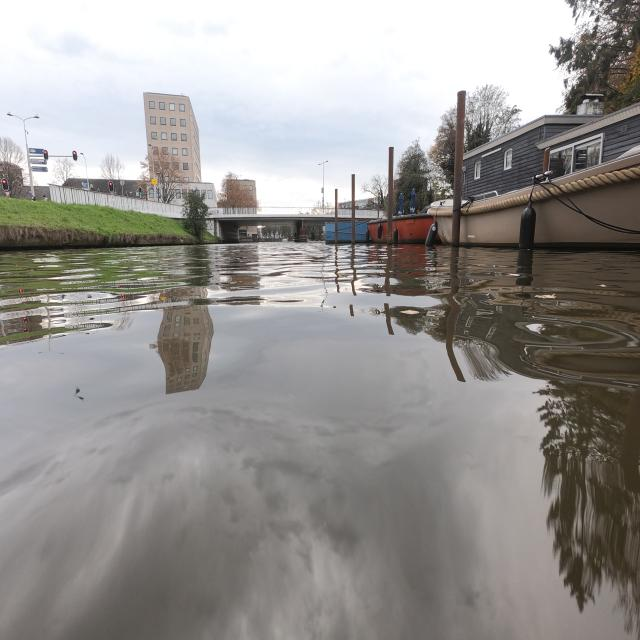boat: (460, 104, 640, 248), (391, 213, 435, 245), (367, 218, 387, 244), (337, 220, 351, 243), (355, 221, 368, 243), (325, 223, 335, 243)
dock: (0, 225, 196, 248)
grass: (0, 195, 184, 234)
tree: (182, 191, 208, 240)
water: (0, 242, 640, 640)
